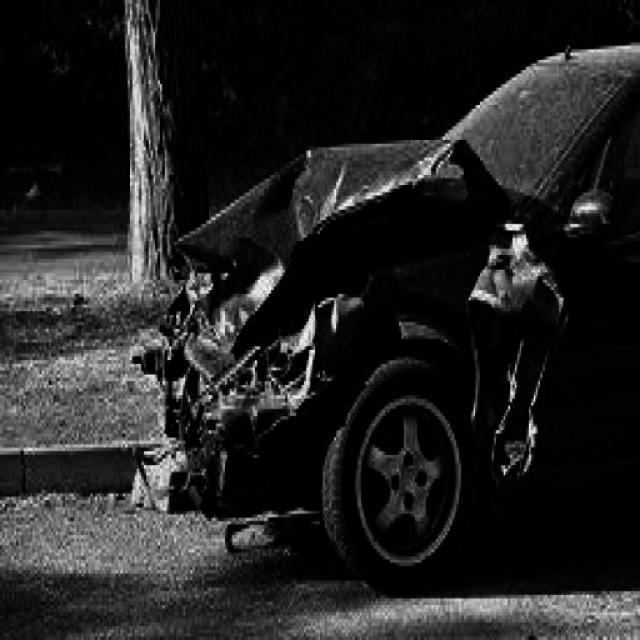car damage: (134, 135, 570, 508)
